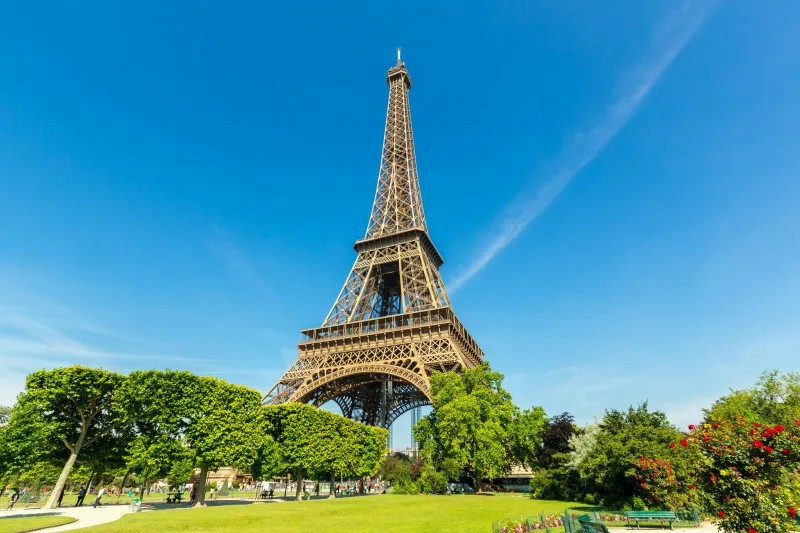Eiffel: (261, 48, 497, 446)
